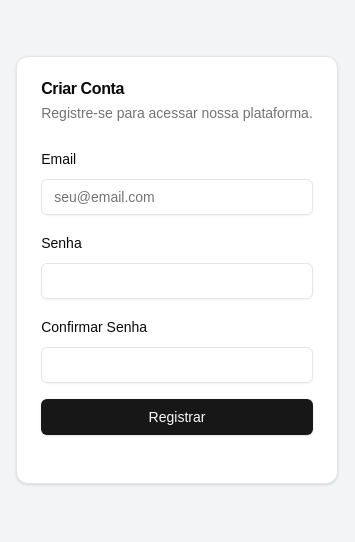
Test: Registro de Usuário › Deve mostrar mensagem de erro para email inválido
The width and height of the screenshot is (355, 542).
Type "emailinvalido" into the field with test id "email". click: (177, 197)
box: [41,179,313,215]
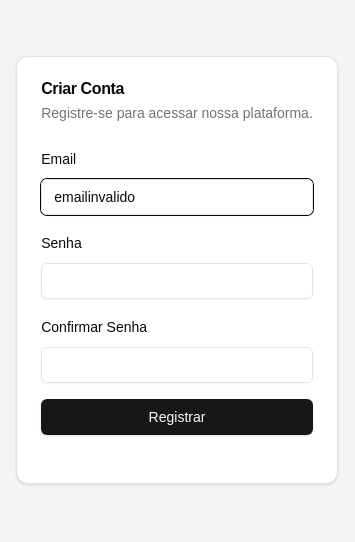
Type "senha123" into the password field with test id "senha". click: (177, 281)
box: [41,263,313,299]
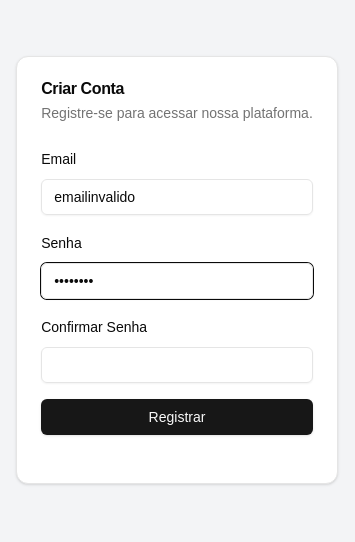
Type "senha123" into the password field with test id "csenha". click: (177, 365)
box: [41,347,313,383]
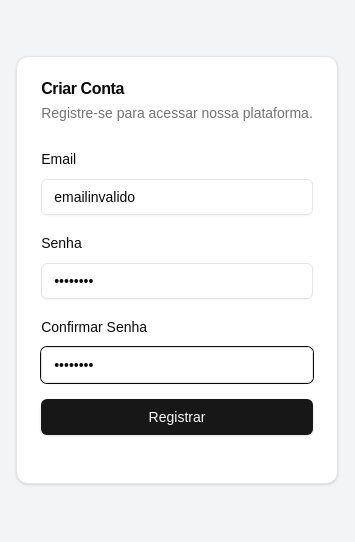
Click the submit button. click: (177, 417)
box: [41,399,313,435]
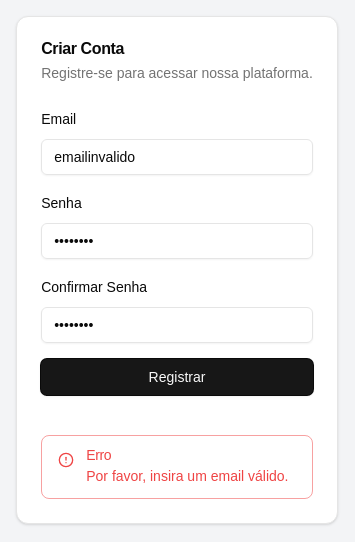
Result: the text "Por favor, insira um email válido." is shown at [58,466,296,486]
